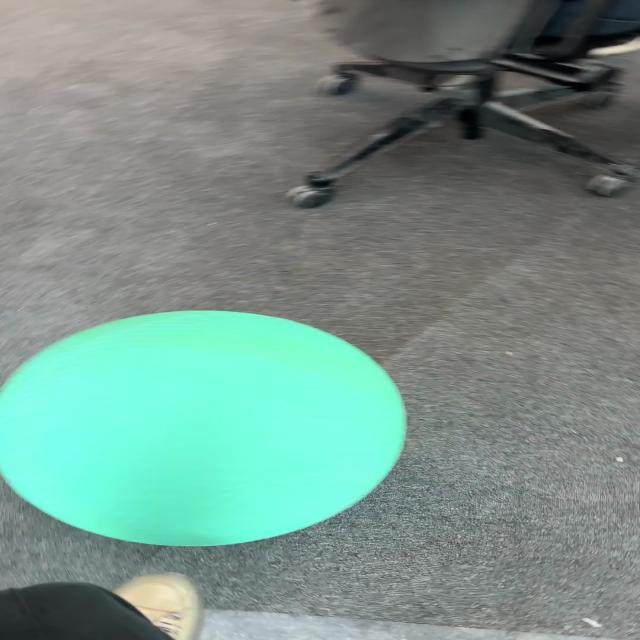Algae: (1, 309, 408, 547)
